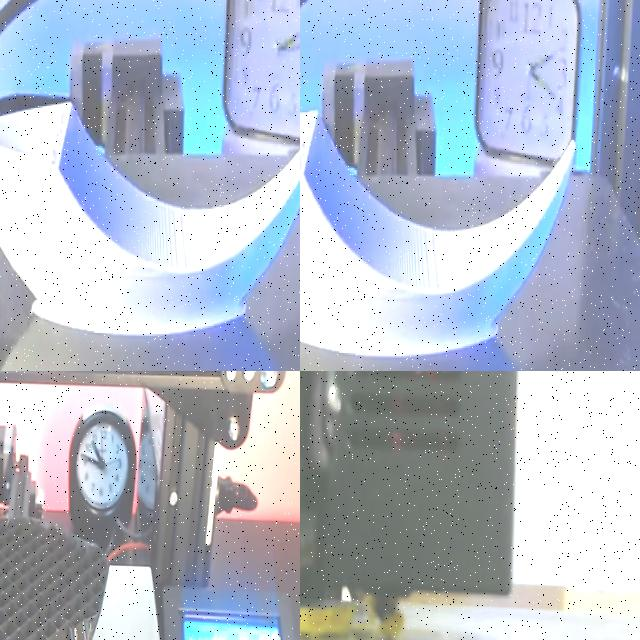spaghetti: (300, 600, 403, 640)
